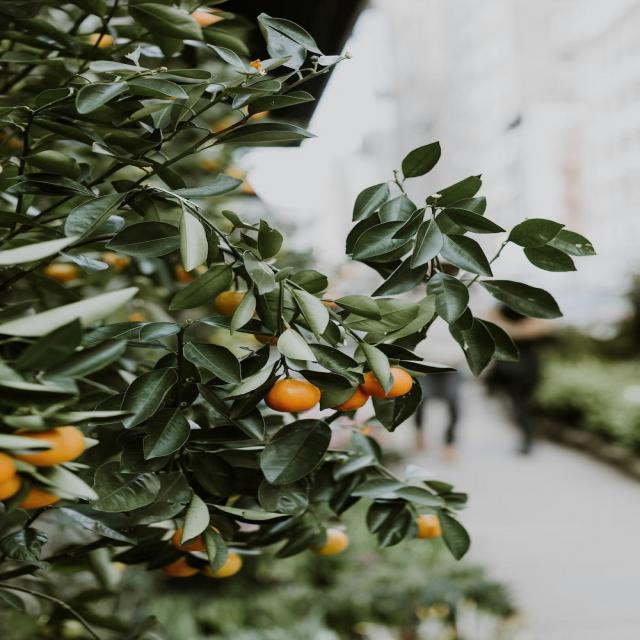Jeruk Sudah Matang: (6, 418, 86, 466), (268, 378, 320, 413), (361, 366, 415, 397), (19, 486, 72, 510), (218, 290, 263, 318), (308, 526, 349, 556), (201, 548, 242, 578), (167, 548, 204, 578), (1, 452, 23, 502), (175, 524, 219, 546), (409, 514, 446, 539), (188, 8, 232, 28), (86, 31, 115, 48)
